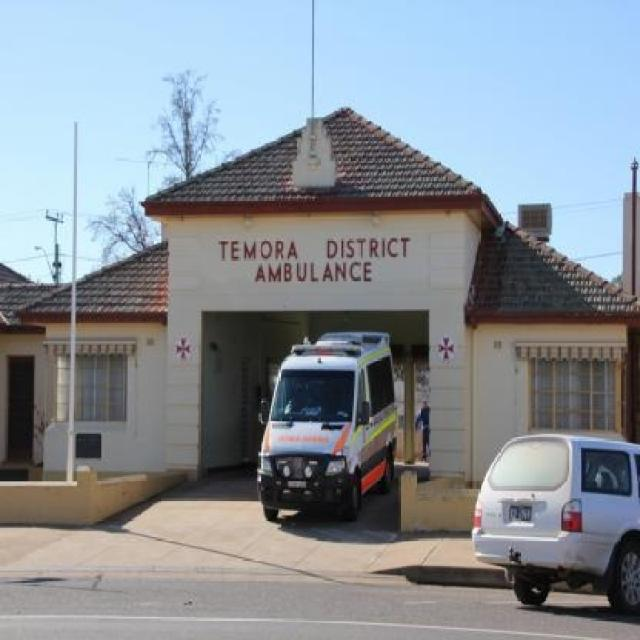Car: (471, 432, 640, 620)
Truck: (254, 326, 404, 522)
